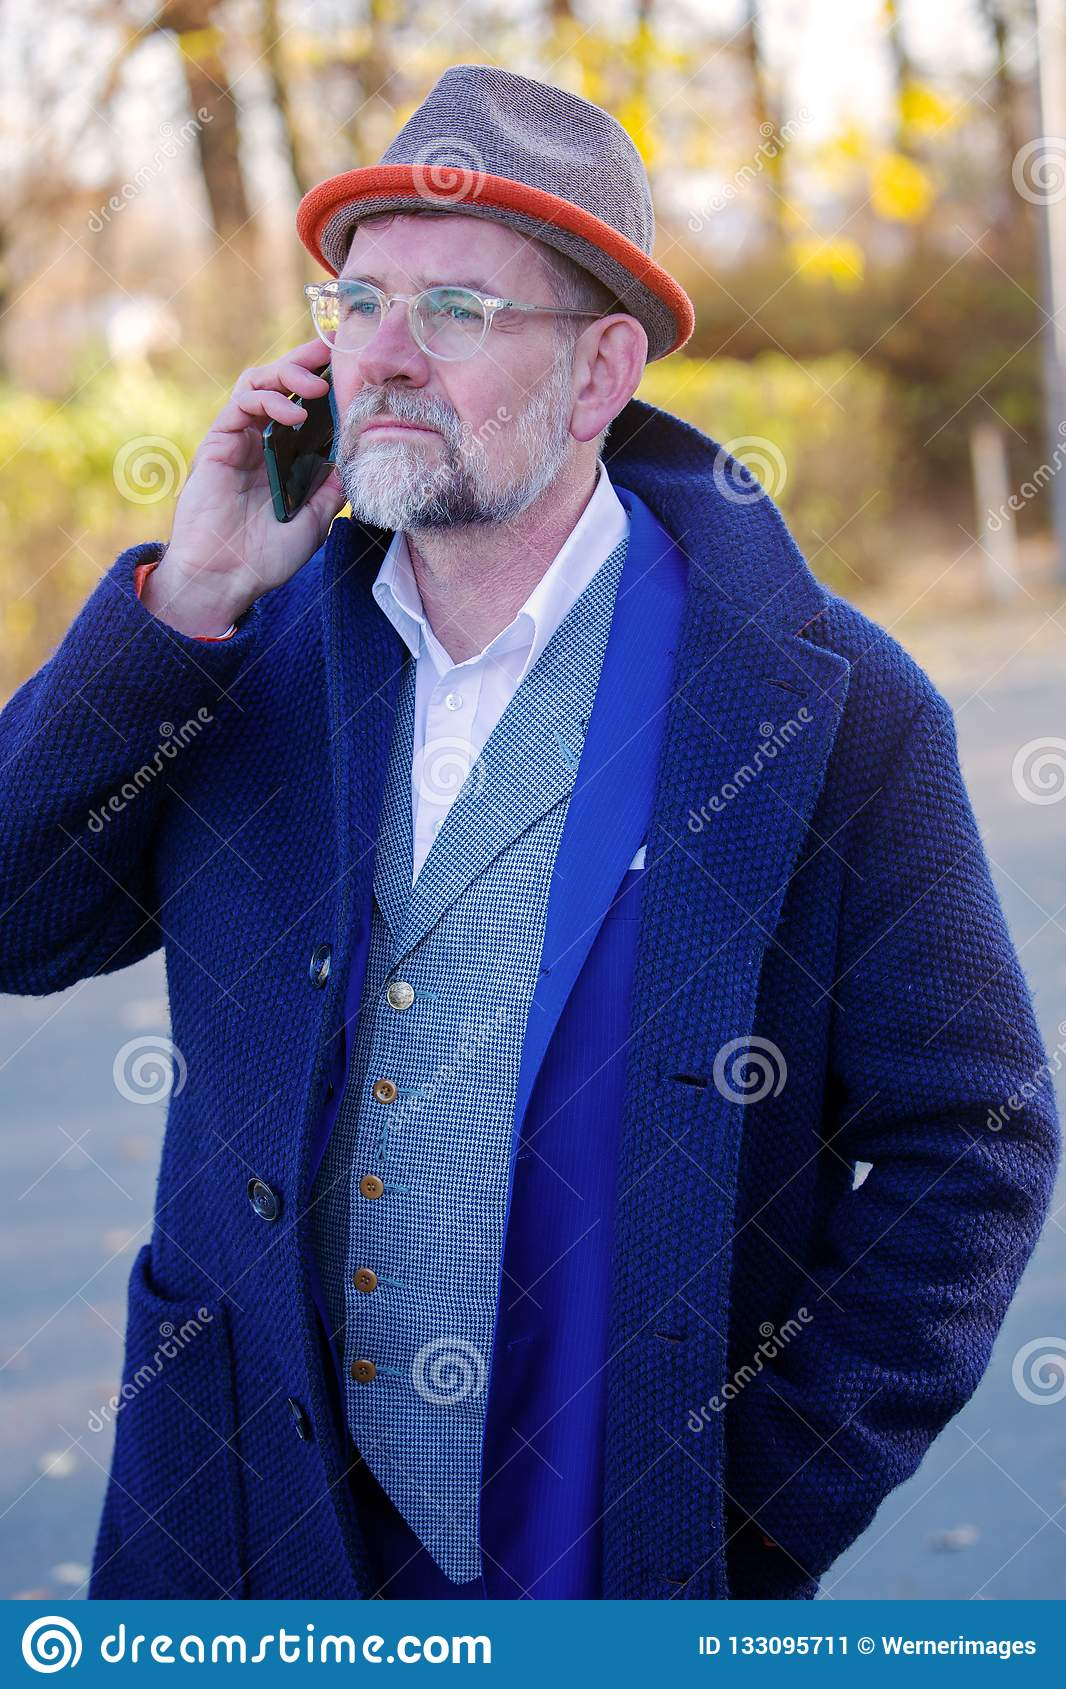phone: (255, 342, 351, 543)
talk: (167, 265, 511, 597)
